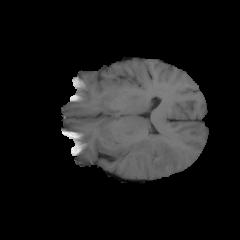glioma: (122, 131, 182, 177)
